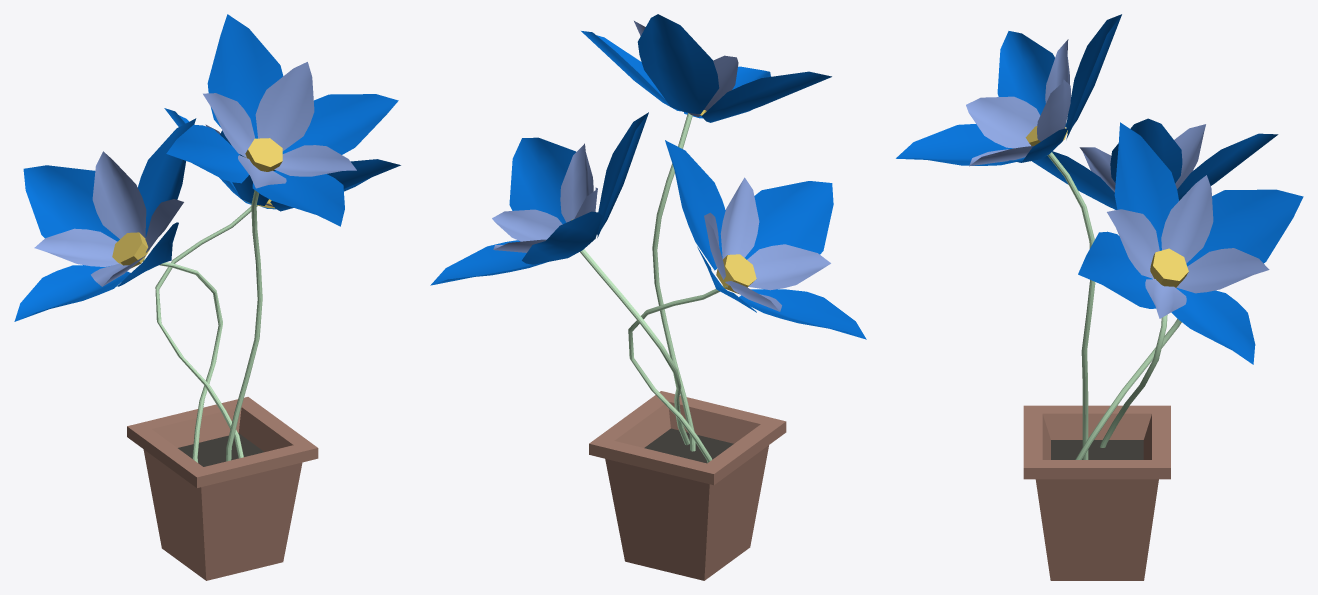
The model's file is fleurs_02.fbx.
The picture shows the model from 3 angles, left to right: view 1: azimuth 30°, elevation 25°; view 2: azimuth 150°, elevation 25°; view 3: azimuth 270°, elevation 25°; orthographic projection. The views are drawn at different scales.
Visible parts, largest first — view 1: fleurs_02; view 2: fleurs_02; view 3: fleurs_02.
Boxes of the visible parts, x1,y1,x2,y2 form: fleurs_02: [14, 14, 400, 580]; fleurs_02: [430, 14, 866, 580]; fleurs_02: [896, 14, 1303, 580].
Bounding box in the file's own units: 35.66 × 49.17 × 32.73.
